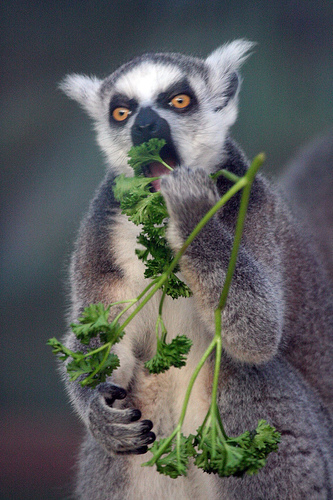cat: (51, 37, 331, 498)
